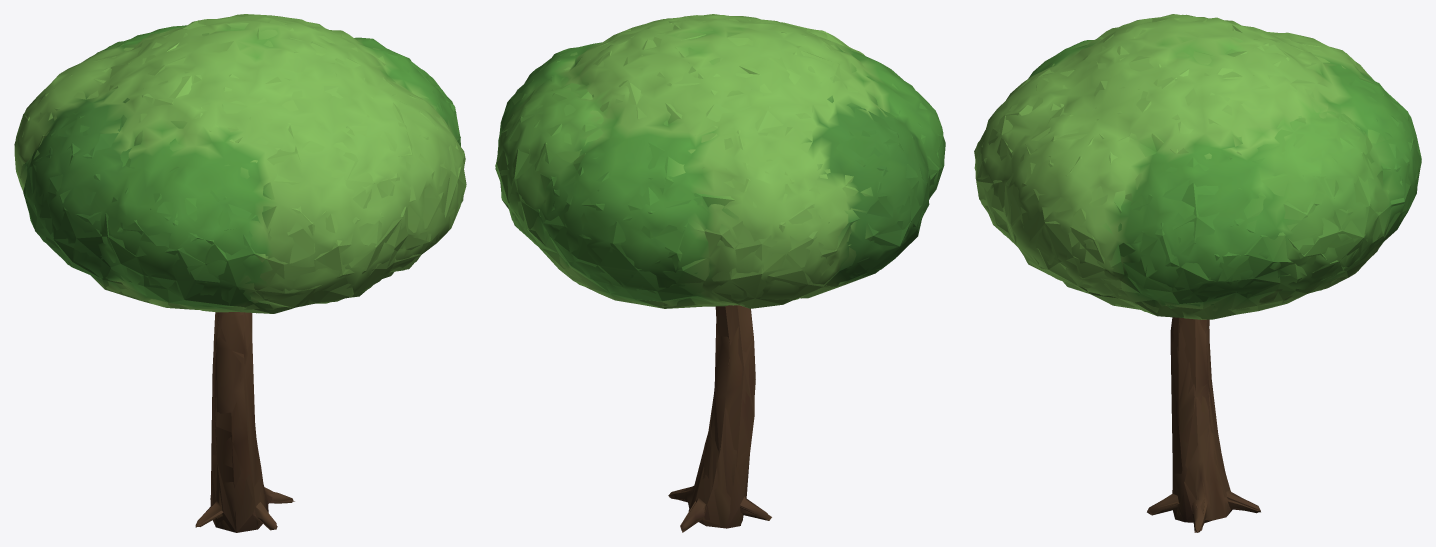
Rendered from broadleaf_mature_bushy.glb.
The picture shows the model from 3 angles, left to right: view 1: azimuth 30°, elevation 25°; view 2: azimuth 150°, elevation 25°; view 3: azimuth 270°, elevation 25°; orthographic projection.
Parts seen in each view (by area): view 1: broadleaf_mature_bushy_LOD1, broadleaf_mature_bushy_LOD2; view 2: broadleaf_mature_bushy_LOD1, broadleaf_mature_bushy_LOD2; view 3: broadleaf_mature_bushy_LOD1, broadleaf_mature_bushy_LOD2.
Part boxes in pixels (bbox=[...]): broadleaf_mature_bushy_LOD1: bbox=[14, 14, 466, 530]; broadleaf_mature_bushy_LOD2: bbox=[14, 16, 466, 532]; broadleaf_mature_bushy_LOD1: bbox=[495, 14, 945, 530]; broadleaf_mature_bushy_LOD2: bbox=[495, 15, 944, 532]; broadleaf_mature_bushy_LOD1: bbox=[974, 14, 1421, 532]; broadleaf_mature_bushy_LOD2: bbox=[974, 14, 1421, 532].
Bounding box in the file's own units: 4.5 × 5.21 × 4.42.
